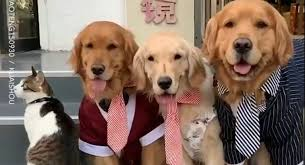Golden Retriever: (204, 1, 305, 155), (75, 25, 148, 157), (140, 35, 218, 157)
